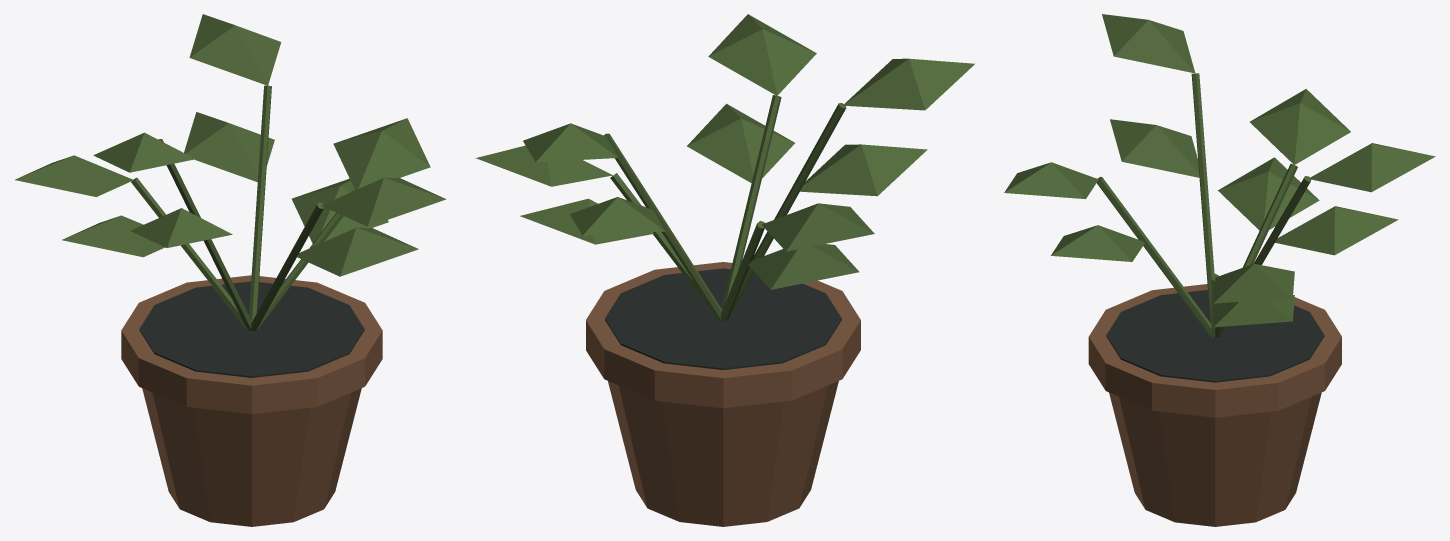
File: prop_potted_plant.glb
The picture shows the model from 3 angles, left to right: view 1: azimuth 30°, elevation 25°; view 2: azimuth 150°, elevation 25°; view 3: azimuth 270°, elevation 25°; orthographic projection. The views are drawn at different scales.
Visible parts, largest first — view 1: prop_potted_plant.002; view 2: prop_potted_plant.002; view 3: prop_potted_plant.002.
Part boxes in pixels (x1,y1,x2,y2): prop_potted_plant.002: [15, 14, 446, 526]; prop_potted_plant.002: [475, 14, 974, 526]; prop_potted_plant.002: [1004, 14, 1435, 526].
Size of the model in its own units: 1.55 by 1.61 by 1.55.
